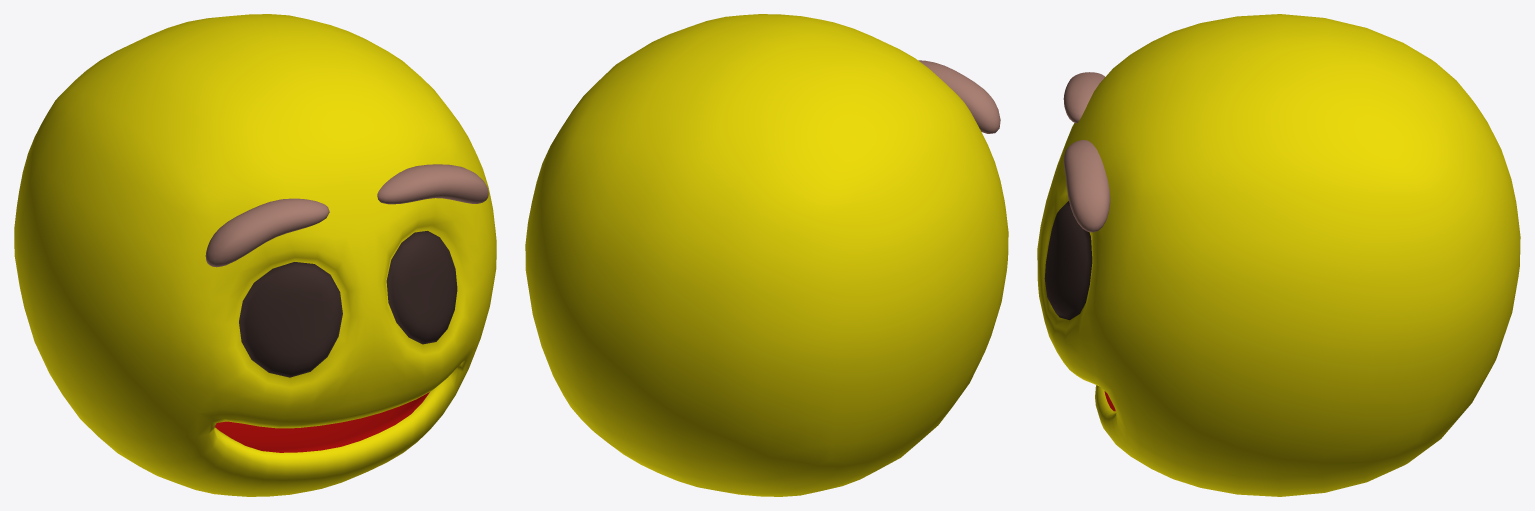
Rendered from Emojis.fbx.
3 renders of one model, left to right at view 1: azimuth 30°, elevation 25°; view 2: azimuth 150°, elevation 25°; view 3: azimuth 270°, elevation 25°, orthographic.
Parts seen in each view (by area): view 1: Emoji 12 Smile; view 2: Emoji 12 Smile; view 3: Emoji 12 Smile.
Part boxes in pixels (left/top/right/bottom): Emoji 12 Smile: left=14, top=14, right=496, bottom=496; Emoji 12 Smile: left=525, top=14, right=1008, bottom=496; Emoji 12 Smile: left=1037, top=14, right=1520, bottom=496.
Size of the model in its own units: 157 by 159 by 161.
